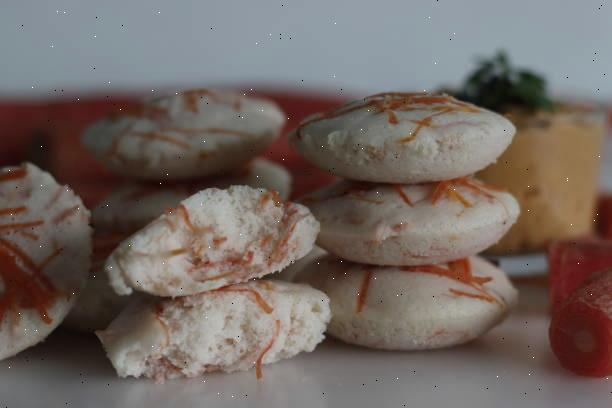idli: (8, 98, 512, 377)
